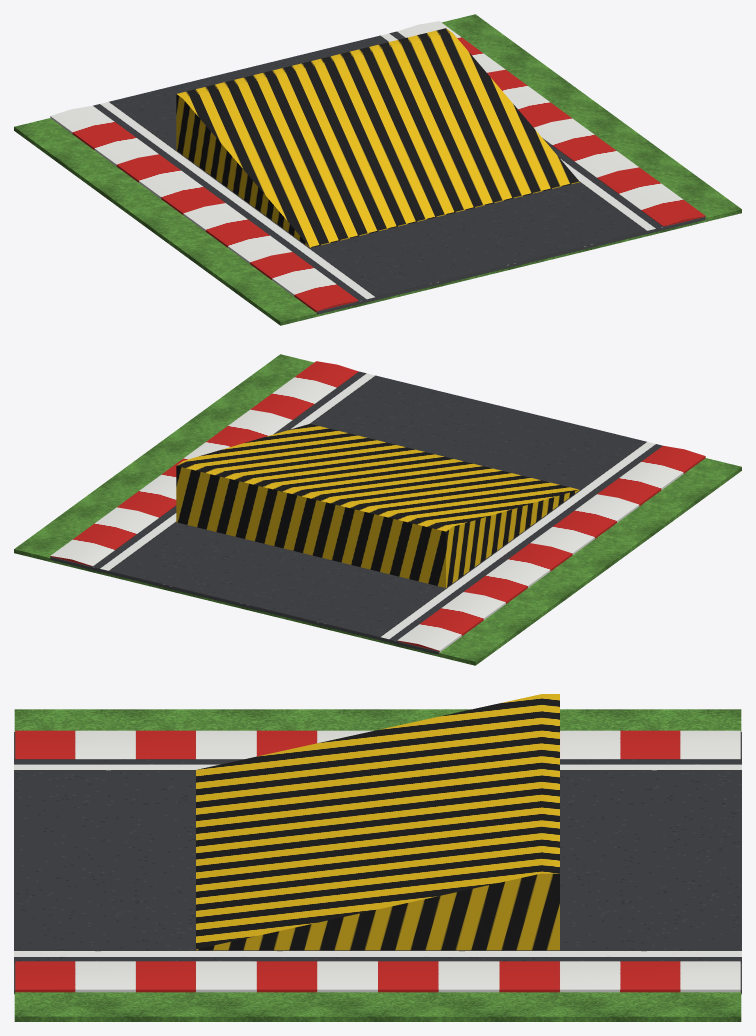
The model's file is race-track-jump-ramp.glb.
3 views of the same model, one above another, from view 1: azimuth 30°, elevation 25°; view 2: azimuth 150°, elevation 25°; view 3: azimuth 270°, elevation 25° (orthographic). The views are drawn at different scales.
Parts seen in each view (by area): view 1: Race_Track_Jump_Ramp; view 2: Race_Track_Jump_Ramp; view 3: Race_Track_Jump_Ramp.
Part boxes in pixels (x1,y1,x2,y2): Race_Track_Jump_Ramp: (14,14,741,325); Race_Track_Jump_Ramp: (14,354,741,665); Race_Track_Jump_Ramp: (14,694,741,1021).
Bounding box in the file's own units: 11.98 × 1.54 × 12.
Materials: 5 (4 with a texture image).
